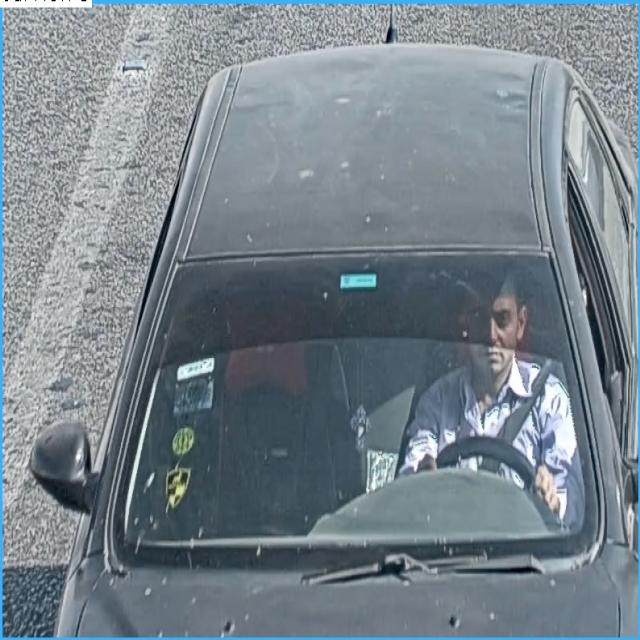windshield: (121, 258, 592, 550)
